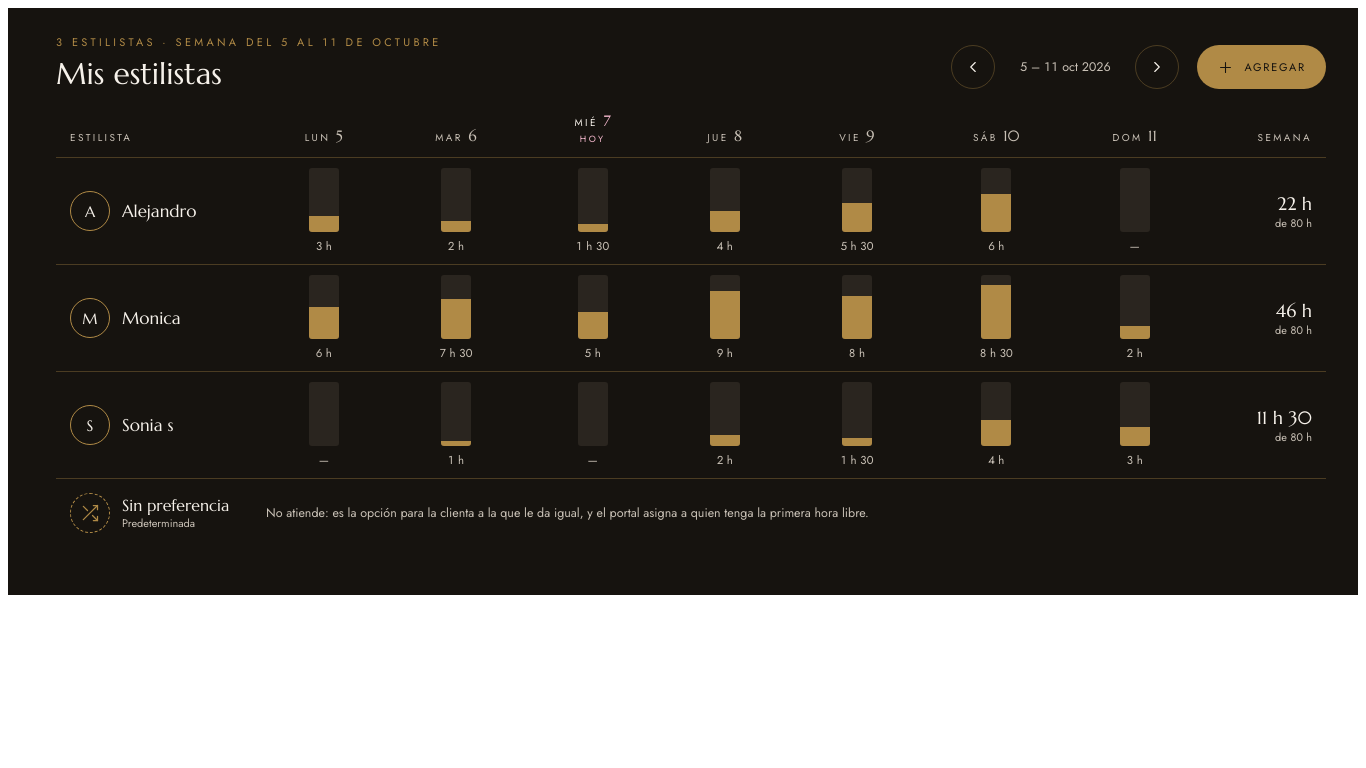
WorkersPage · crear y renombrar › «Agregar» crea con el nombre recortado y deja el panel listo para otra
Click the button with test id "agregar-estilista" at (1262, 67), box 1197,45 -> 1326,89
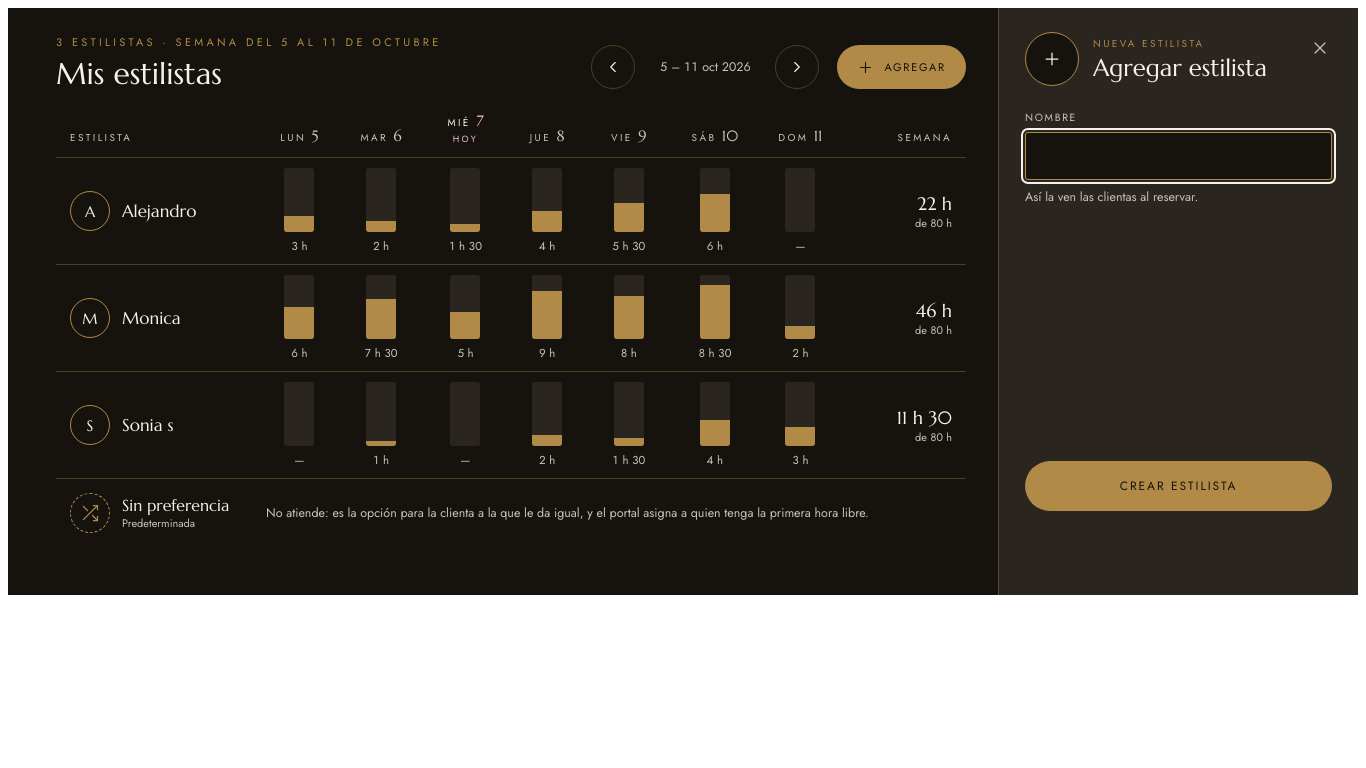
Type "  Ana  " into the field with test id "campo-nombre" at (1178, 156), box 1025,132 -> 1332,180
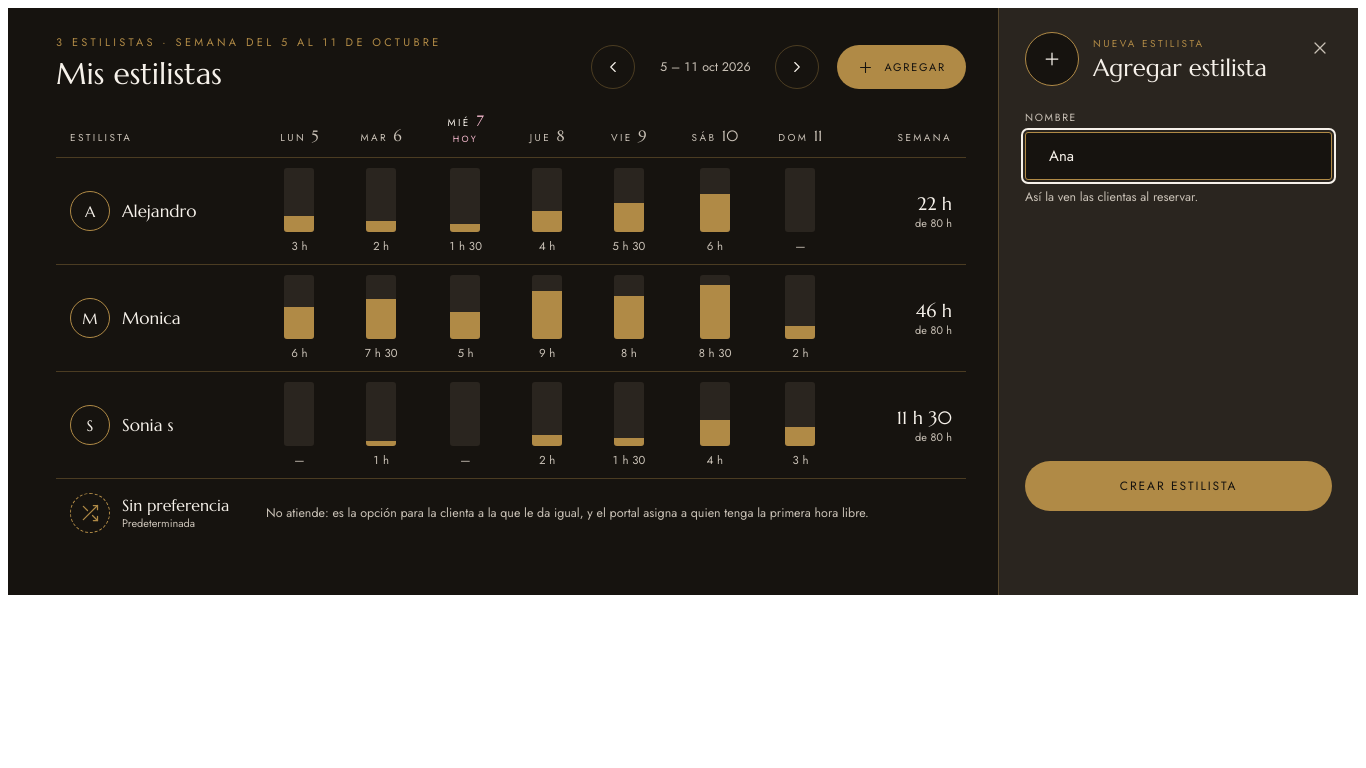
Submit the form, box 1025,32 -> 1332,511
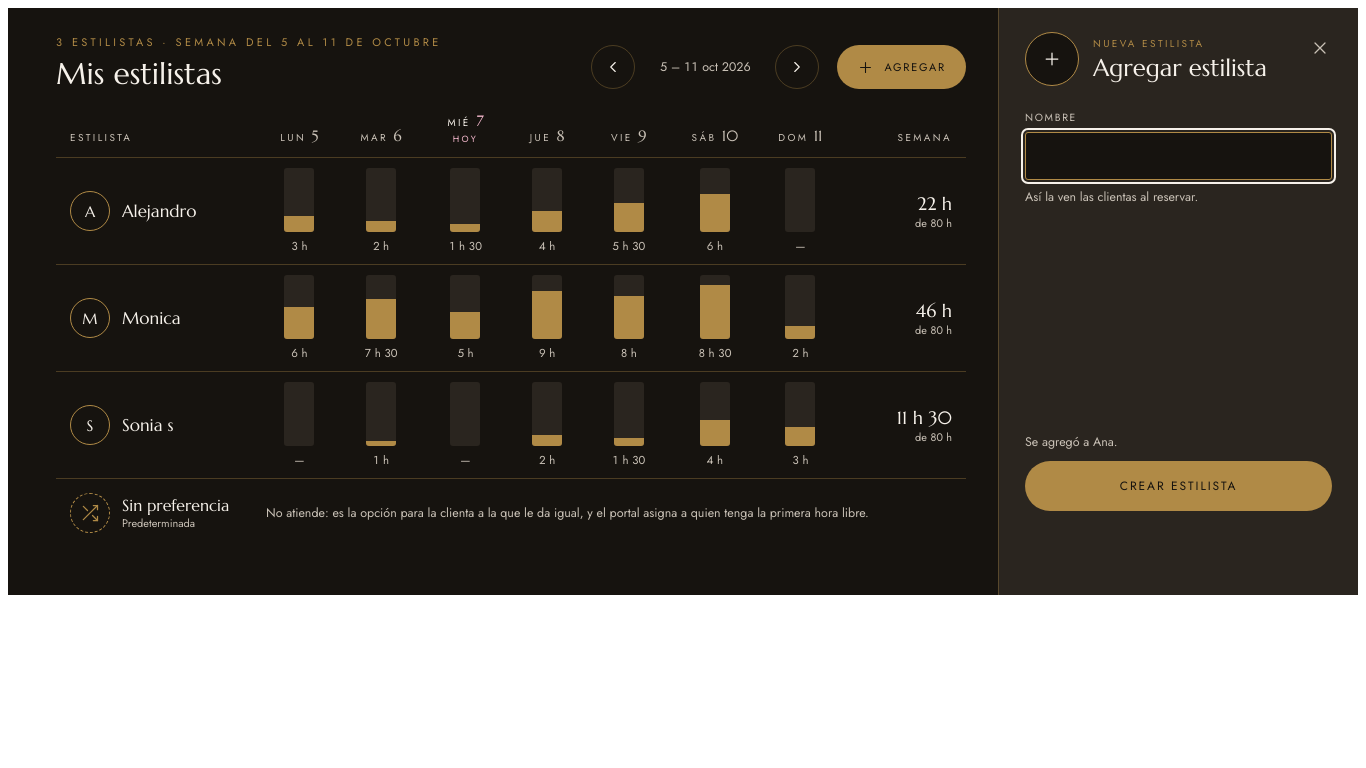
Now the message with test id "exito-estilista" reads "Se agregó a Ana.", box 1025,433 -> 1118,451
Now the field with test id "campo-nombre" is empty, box 1025,132 -> 1332,180
